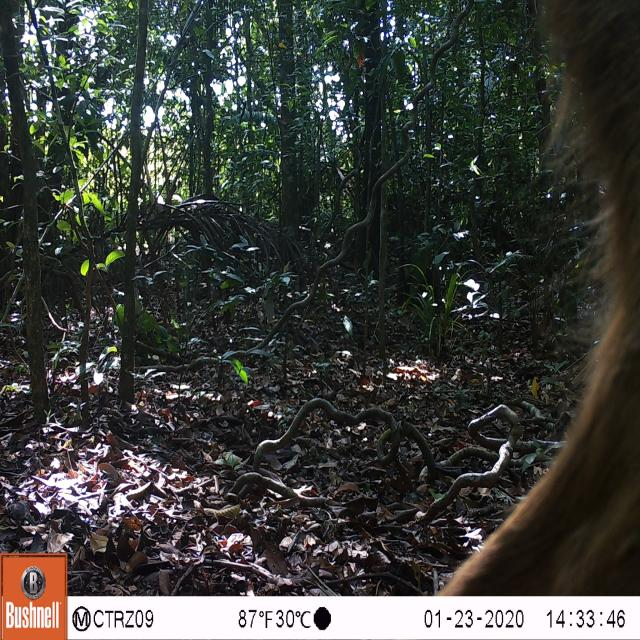White-tailed Deer: (428, 2, 640, 594)
